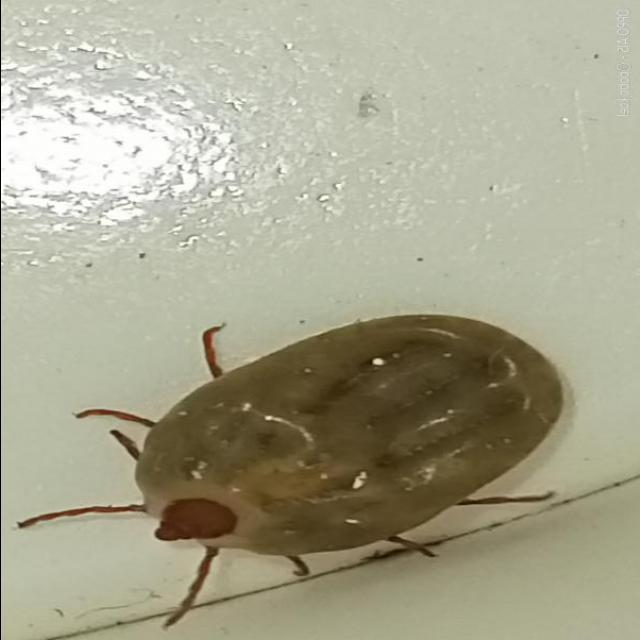Rhipicephalus Sanguineus-F-Fed: (21, 316, 566, 631)
